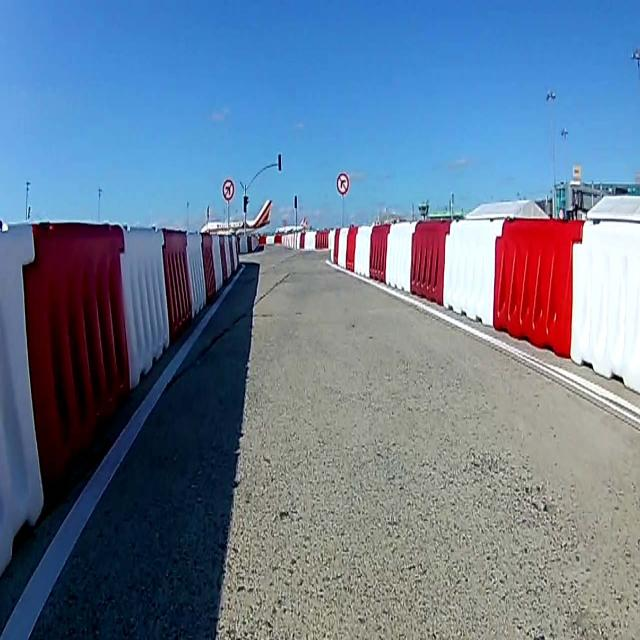sagadonulmez: (336, 172, 349, 195)
soladonulmez: (223, 179, 234, 201)
